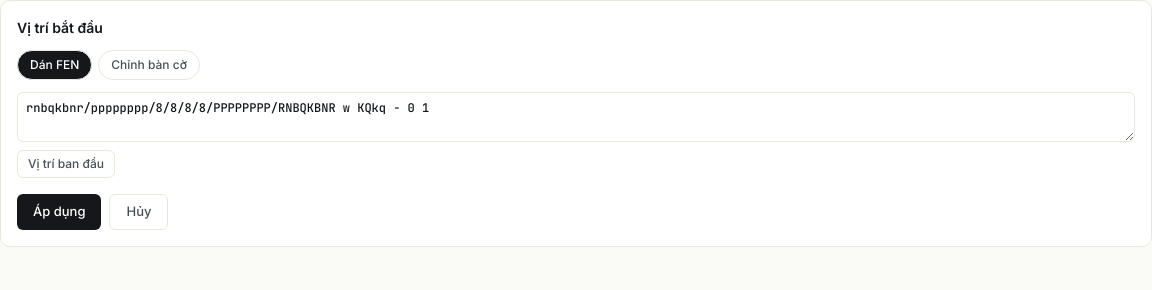
it: BoardEditor › FEN tab › shows an error for invalid FEN when Apply is clicked
Replace the text in the text box with test id "board-editor-fen-input" with "not-a-valid-fen". click: x=576, y=117
box: [17, 92, 1135, 142]
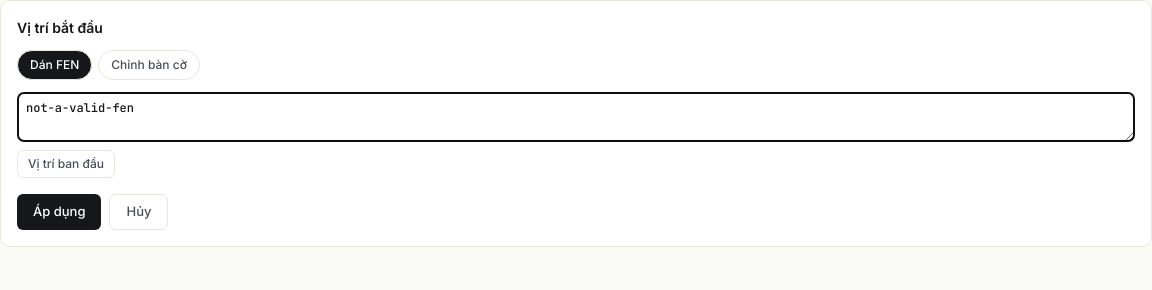
Click the button with test id "board-editor-apply". click: x=59, y=212
box: [17, 194, 102, 230]
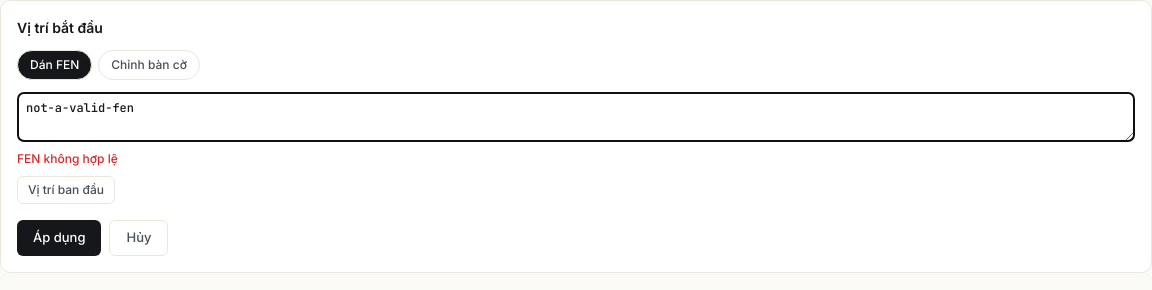
Check: the text "FEN không hợp lệ" is shown, box [17, 151, 118, 166]
